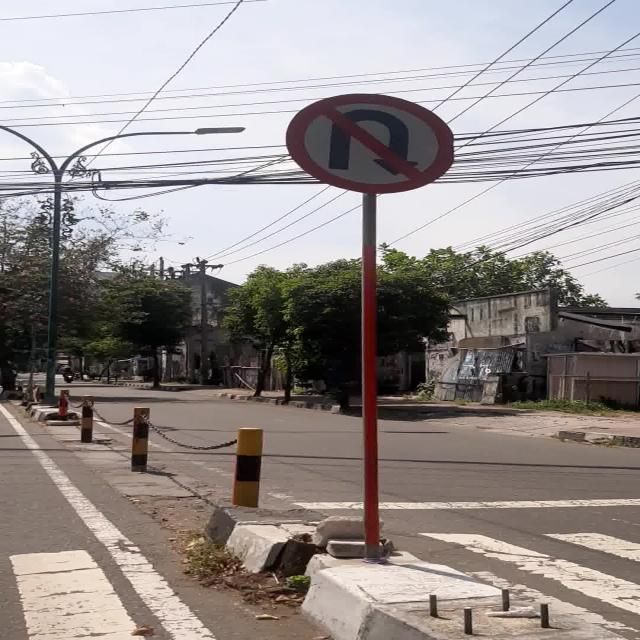Dilarang Putar Balik: (284, 94, 456, 194)
